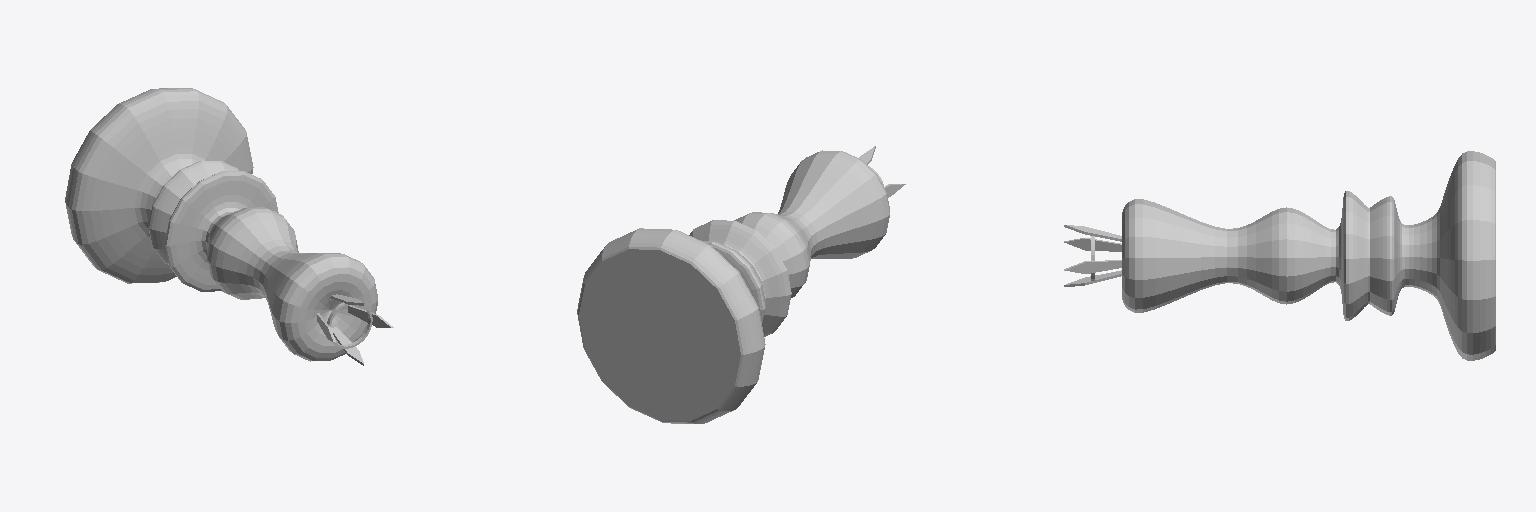
Rendered from king.obj.
3 views of the same model, side by side, from view 1: azimuth 30°, elevation 25°; view 2: azimuth 150°, elevation 25°; view 3: azimuth 270°, elevation 25° (orthographic).
Parts seen in each view (by area): view 1: Mesh.004_Mesh.012_White_King; view 2: Mesh.004_Mesh.012_White_King; view 3: Mesh.004_Mesh.012_White_King, Mesh_Mesh.022_Line07.
Boxes of the visible parts, x1,y1,x2,y2 form: Mesh.004_Mesh.012_White_King: [65, 88, 377, 361]; Mesh.004_Mesh.012_White_King: [577, 150, 889, 423]; Mesh.004_Mesh.012_White_King: [1122, 151, 1495, 360]; Mesh_Mesh.022_Line07: [1064, 260, 1121, 273].
Size of the model in its own units: 38.75 by 38.75 by 79.79.